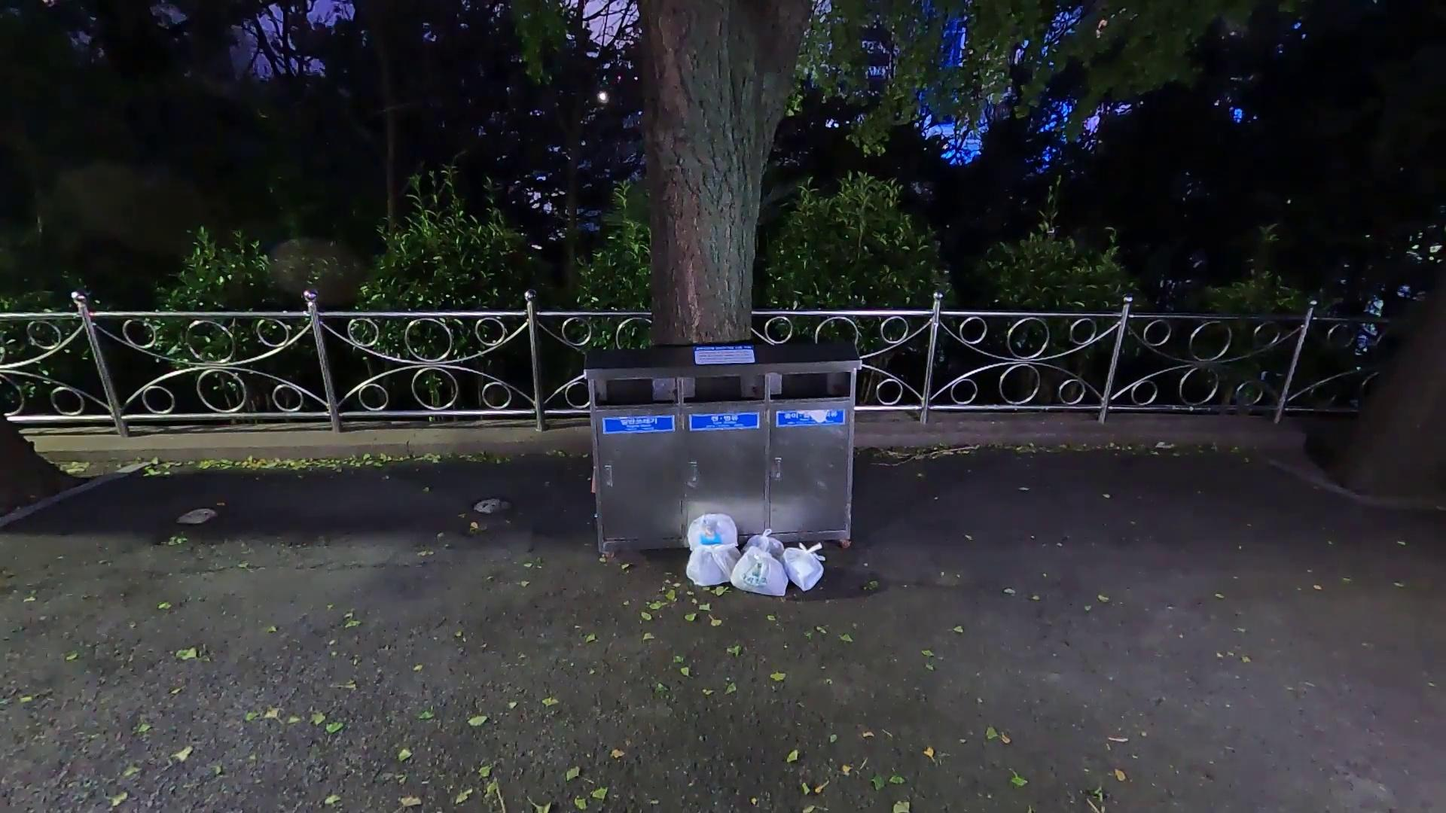trash: (730, 545, 789, 599), (775, 536, 829, 595), (683, 544, 745, 587), (685, 513, 741, 550), (743, 526, 787, 568)
